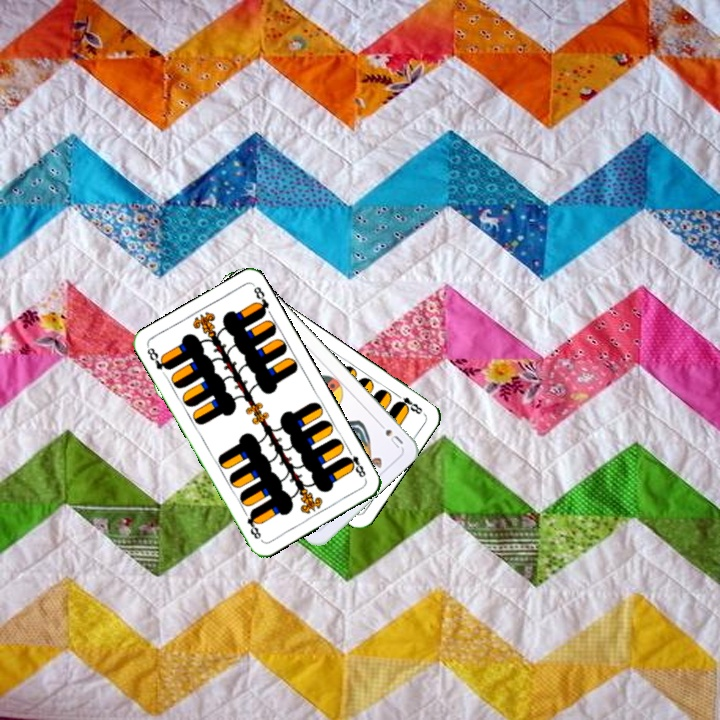E8: (341, 445, 369, 482), (391, 389, 427, 417), (143, 343, 172, 373)
SU: (373, 417, 406, 451)
